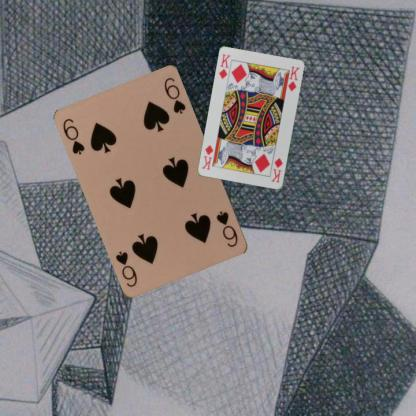6s: (214, 208, 240, 248), (61, 116, 86, 156)
Kd: (216, 51, 232, 80), (269, 156, 284, 184)
